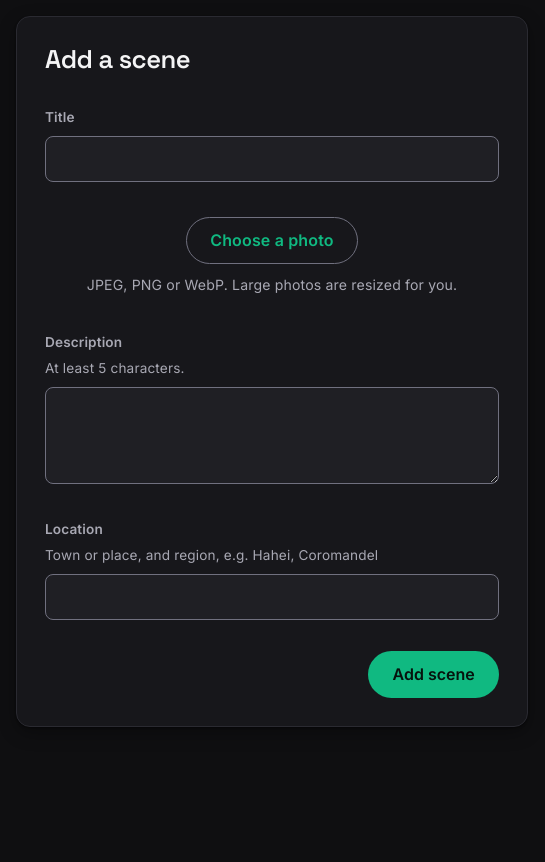
Scenario: Add a scene › asks for a photo (and the rest) before sending anything
Click the button "Add scene": click(434, 675) [368,651,499,698]
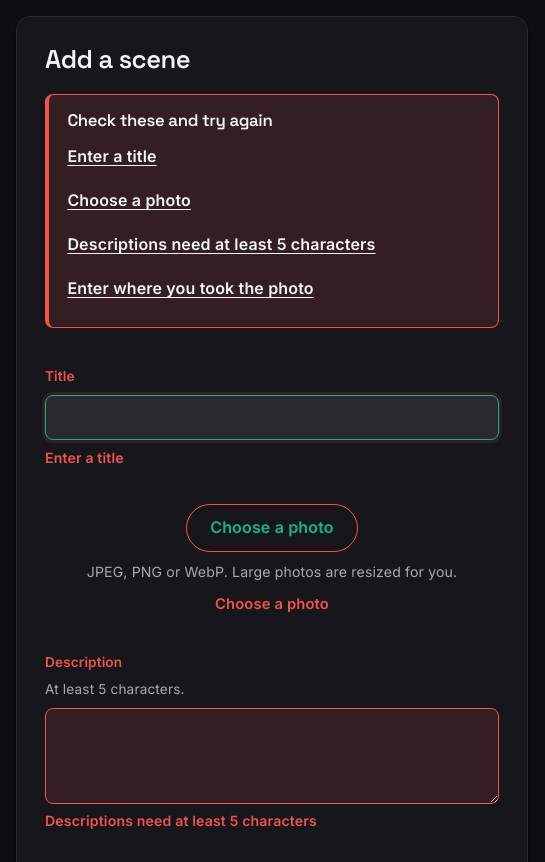
Check: the message shows "Enter a title", box [67,135,157,179]
Check: the message shows "Choose a photo", box [67,179,191,223]
Check: the message shows "Descriptions need at least 5 characters", box [67,223,376,267]
